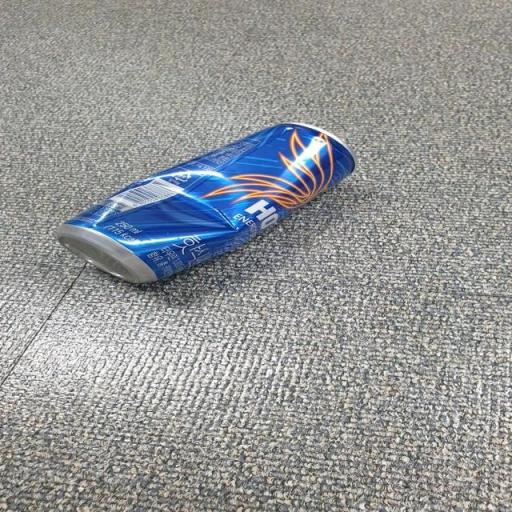metal: (2, 118, 422, 300)
